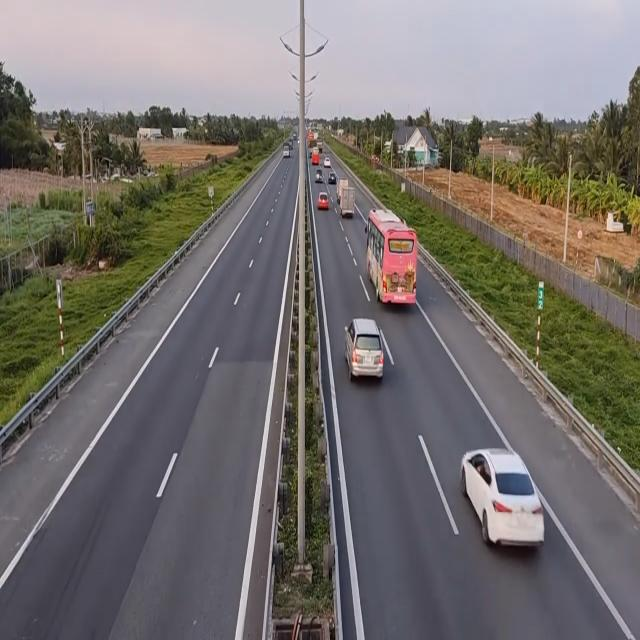bus: (363, 207, 417, 308)
car: (460, 448, 546, 554), (345, 318, 389, 385), (320, 191, 332, 214)
